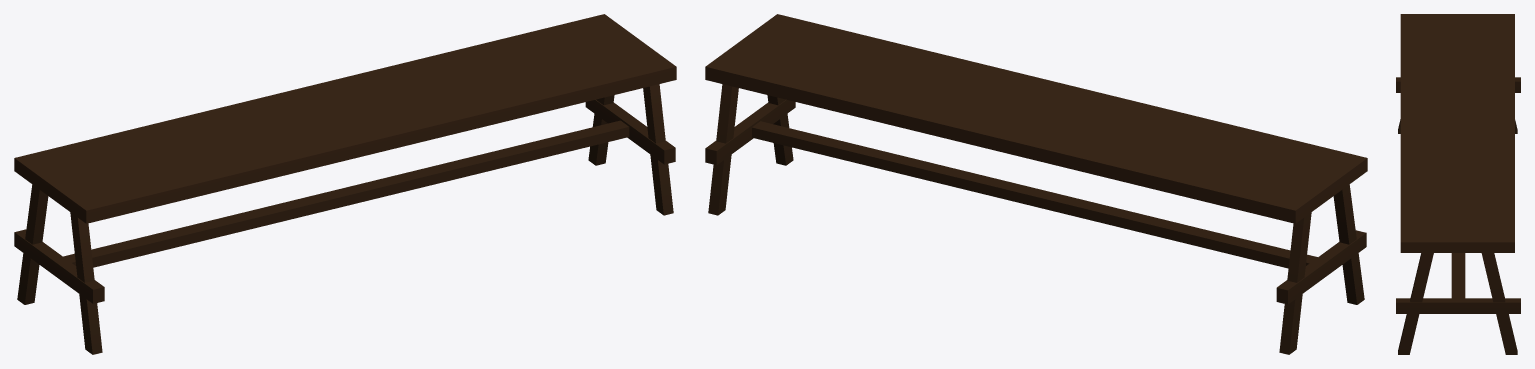
The model's file is KursiKayu.fbx.
3 renders of one model, left to right at view 1: azimuth 30°, elevation 25°; view 2: azimuth 150°, elevation 25°; view 3: azimuth 270°, elevation 25°, orthographic. The views are drawn at different scales.
Visible parts, largest first — view 1: KursiKayu_LOD0; view 2: KursiKayu_LOD0; view 3: KursiKayu_LOD0.
Boxes of the visible parts, box(x1,y1,x2,y2) form: KursiKayu_LOD0: box(14, 14, 676, 354); KursiKayu_LOD0: box(705, 14, 1367, 354); KursiKayu_LOD0: box(1396, 14, 1520, 354).
Size of what is drawn, in the model's own units: 200 by 46.67 by 46.21.
